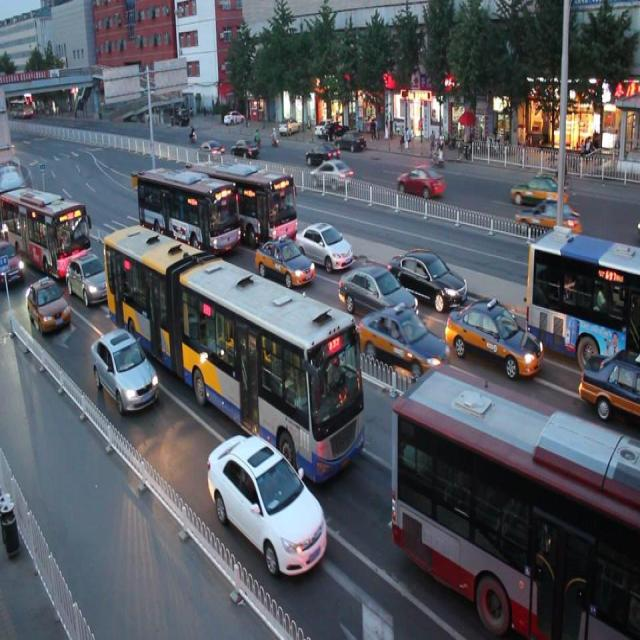car: (206, 432, 327, 580), (446, 294, 544, 382), (358, 304, 451, 381), (90, 328, 158, 417), (337, 258, 416, 331), (390, 243, 468, 309), (576, 344, 640, 421), (253, 230, 314, 289), (294, 214, 352, 273), (65, 251, 115, 307), (27, 277, 72, 337), (1, 238, 27, 292)
van: (102, 218, 366, 482), (392, 361, 640, 640), (524, 225, 640, 360), (136, 160, 240, 262), (191, 153, 298, 248), (1, 182, 90, 272)
